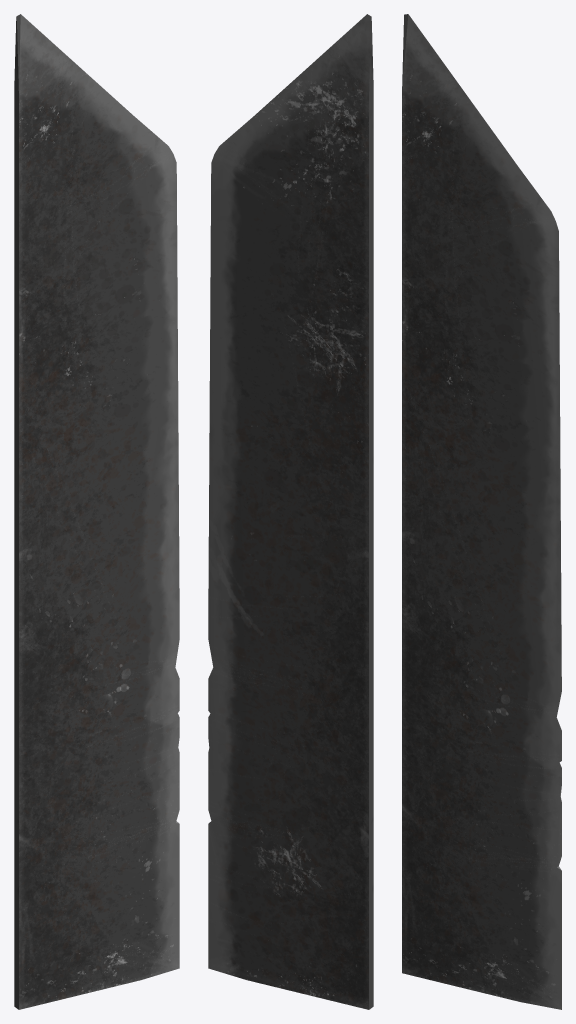
File: knife.fbx
3 views of the same model, side by side, from view 1: azimuth 30°, elevation 25°; view 2: azimuth 150°, elevation 25°; view 3: azimuth 330°, elevation 25° (orthographic). The views are drawn at different scales.
Parts seen in each view (by area): view 1: Blade; view 2: Blade; view 3: Blade.
Boxes of the visible parts, x1,y1,x2,y2 form: Blade: (14, 14, 179, 1009); Blade: (208, 14, 373, 1009); Blade: (402, 14, 561, 1009).
Bounding box in the file's own units: 15.98 × 92.91 × 0.8072.
